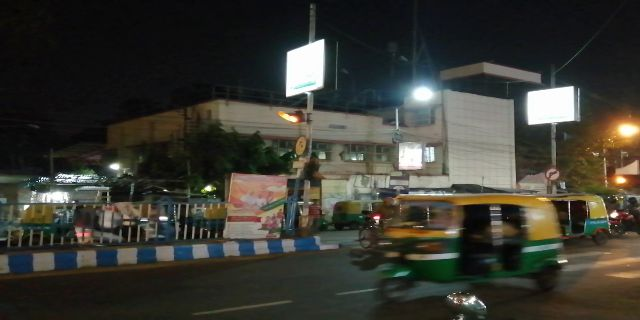Autorickshaw: (373, 192, 565, 304)
